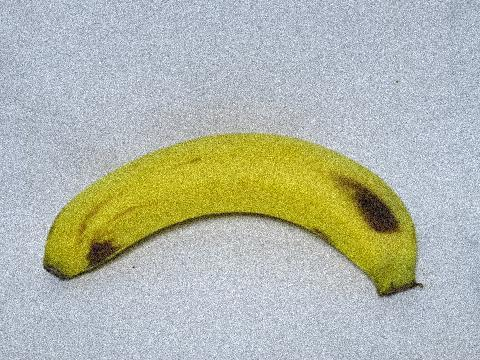freshripe: (35, 123, 434, 310)
